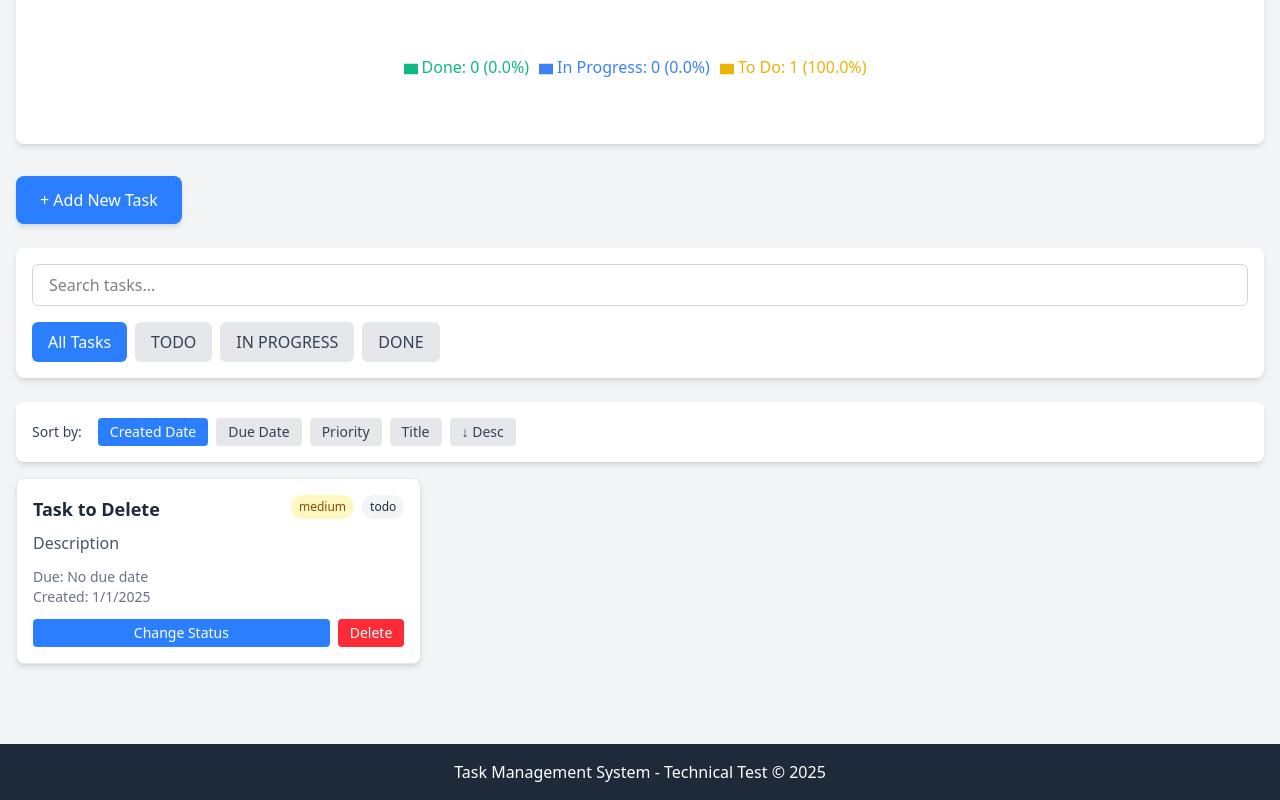
Test case: App Integration Tests › Task Deletion Flow › should delete a task and update statistics
This screenshot has width=1280, height=800.
(page scrolled)
Expected: the heading "Task to Delete" is shown, [33,495,160,523]
Click the button with aria-label "delete task: task to delete" at (371, 633), box [338,619,404,647]
(page scrolled)
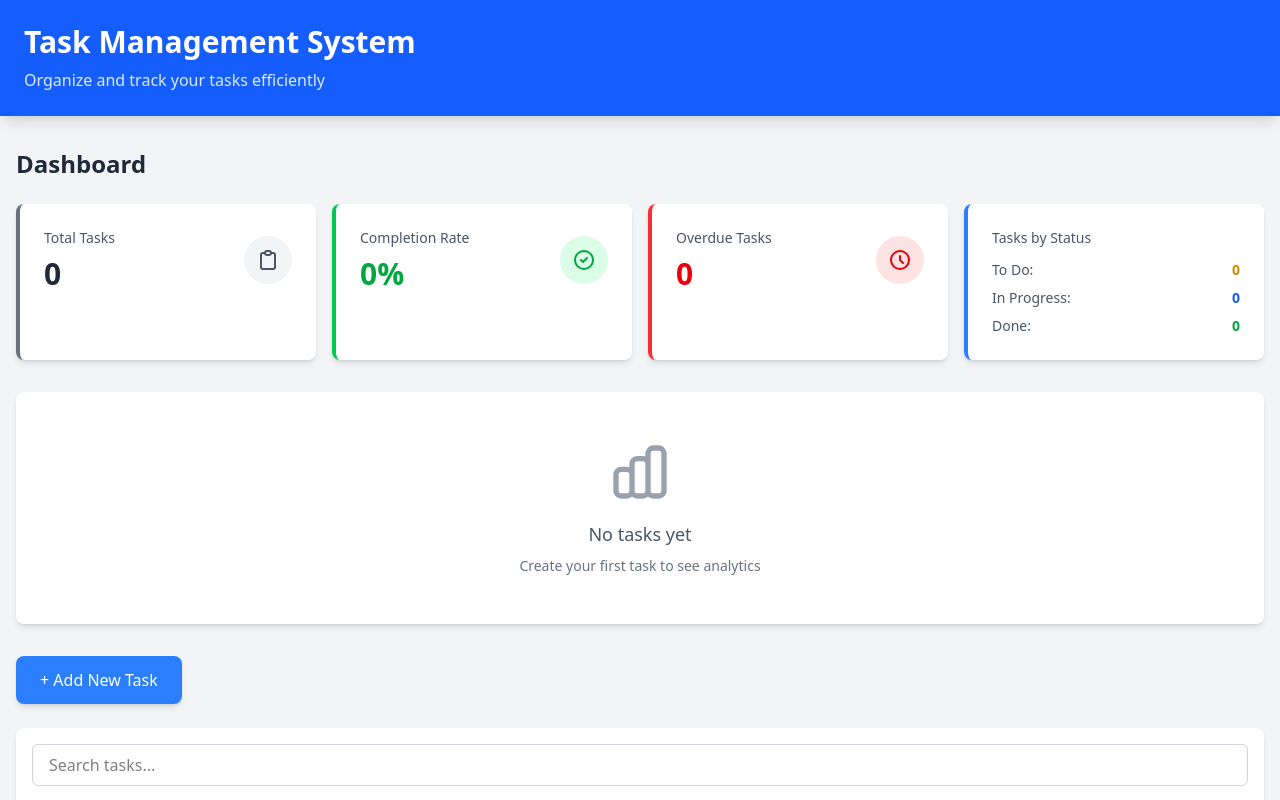
Expected: the element named "dashboard metrics" shows "0", [44,253,61,294]
Now the heading "Task to Delete" is gone
